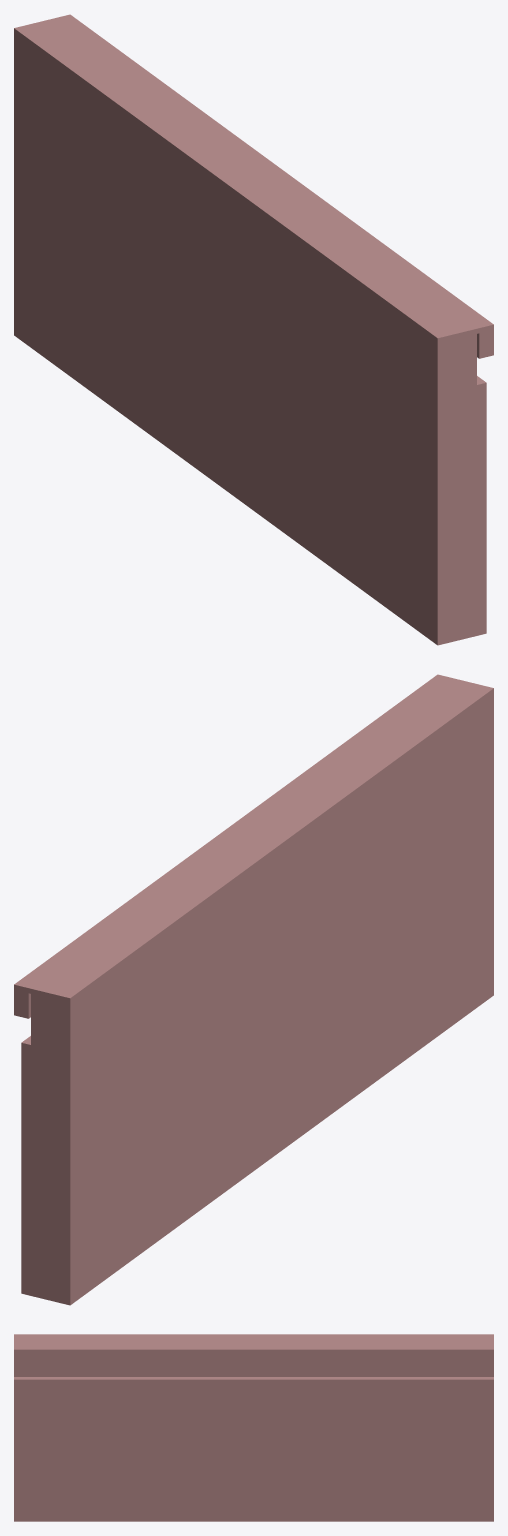
The model's file is ROOM602-FRIDGE-BODYSET7_link_mesh.dae.
The picture shows the model from 3 angles, top to bottom: view 1: azimuth 30°, elevation 25°; view 2: azimuth 150°, elevation 25°; view 3: azimuth 270°, elevation 25°; orthographic projection. The views are drawn at different scales.
Visible parts, largest first — view 1: ROOM602-FRIDGE-BODYSET7_link; view 2: ROOM602-FRIDGE-BODYSET7_link; view 3: ROOM602-FRIDGE-BODYSET7_link.
Part boxes in pixels (<box>): ROOM602-FRIDGE-BODYSET7_link: <box>14,14,493,645</box>; ROOM602-FRIDGE-BODYSET7_link: <box>14,674,493,1305</box>; ROOM602-FRIDGE-BODYSET7_link: <box>14,1334,493,1521</box>.
Bounding box in the file's own units: 0.0575 × 0.3 × 0.75.
